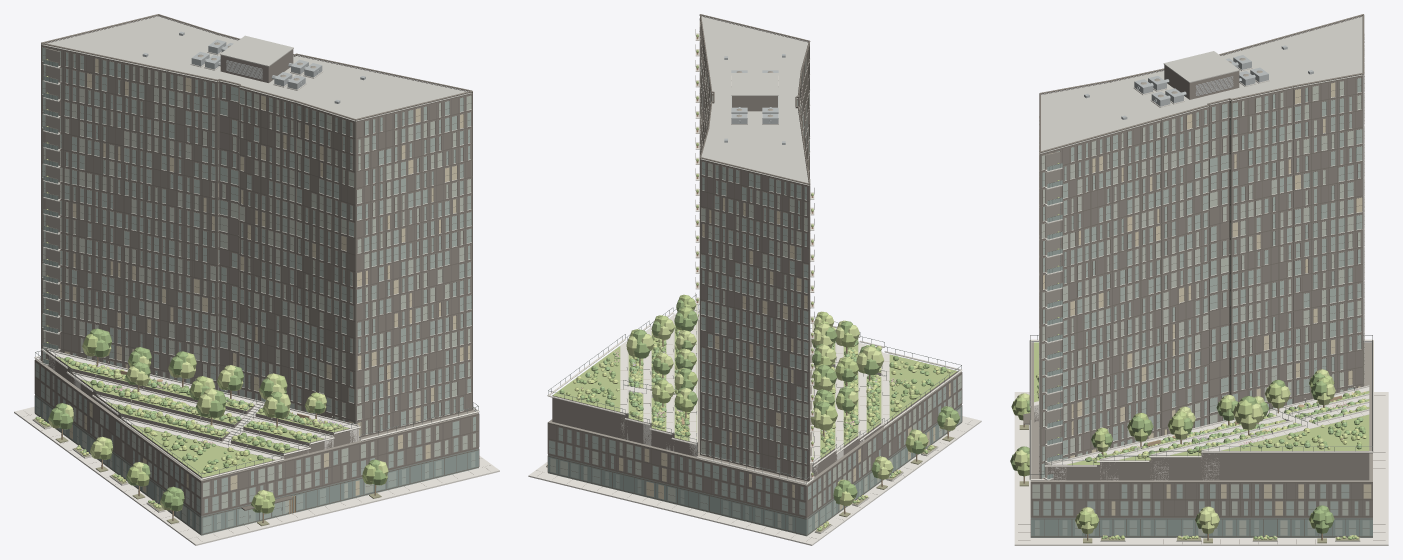
Rendered from the-yard-portland.glb.
The picture shows the model from 3 angles, left to right: view 1: azimuth 30°, elevation 25°; view 2: azimuth 150°, elevation 25°; view 3: azimuth 270°, elevation 25°; orthographic projection. The views are drawn at different scales.
Visible parts, largest first — view 1: bronze, frame, glass, lightglass, membrane, paving, concrete, darkglass, leafdark, warmglass, roof, reveal (+8 smaller); view 2: bronze, frame, glass, membrane, paving, lightglass, concrete, leafdark, leaflight, grass, darkglass, leaf (+8 smaller); view 3: bronze, frame, glass, lightglass, membrane, paving, concrete, roof, darkglass, reveal, warmglass, leaf (+9 smaller).
Boxes of the visible parts, x1,y1,x2,y2 form: bronze: (35, 45, 478, 516); frame: (27, 14, 490, 540); glass: (35, 47, 475, 532); lightglass: (42, 49, 475, 531); membrane: (42, 16, 471, 121); paving: (14, 351, 499, 545); concrete: (32, 51, 479, 512); darkglass: (35, 59, 478, 535); leafdark: (49, 328, 386, 512); warmglass: (59, 58, 470, 511); roof: (35, 42, 478, 481); reveal: (35, 49, 443, 511); bronze: (548, 21, 961, 518); frame: (536, 14, 970, 541); glass: (549, 55, 961, 532); membrane: (701, 16, 809, 185); paving: (528, 305, 981, 545); lightglass: (550, 56, 961, 530); concrete: (546, 31, 962, 533); leafdark: (579, 299, 959, 504); leaflight: (585, 308, 957, 505); grass: (552, 305, 956, 458); darkglass: (548, 405, 961, 536); leaf: (566, 34, 931, 530); bronze: (1030, 65, 1372, 517); frame: (1018, 14, 1385, 543); glass: (1033, 78, 1369, 535); lightglass: (1032, 81, 1369, 535); membrane: (1040, 16, 1362, 153); paving: (1014, 387, 1388, 545); concrete: (1029, 34, 1373, 541); roof: (1030, 58, 1372, 481); darkglass: (1030, 163, 1372, 537); reveal: (1032, 79, 1347, 515); warmglass: (1043, 82, 1371, 515); leaf: (1011, 163, 1362, 539).
Bounding box in the file's own units: 58.89 × 70.14 × 59.72.
